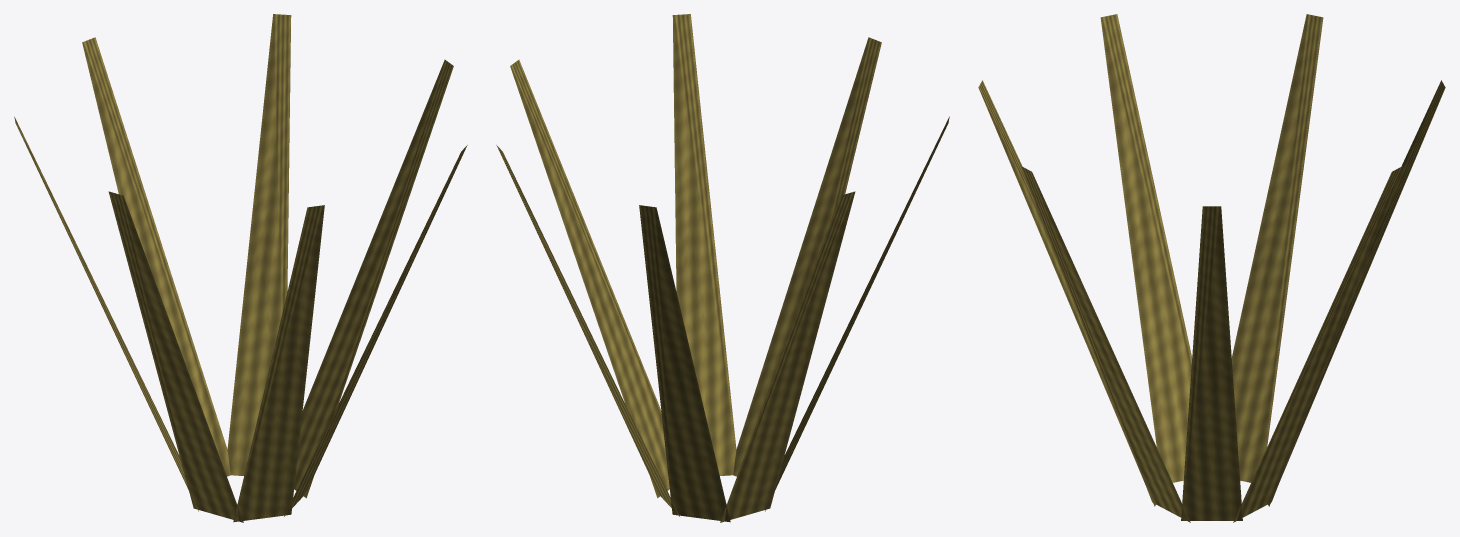
File: SM_GrassTuft.fbx
The picture shows the model from 3 angles, left to right: view 1: azimuth 30°, elevation 25°; view 2: azimuth 150°, elevation 25°; view 3: azimuth 270°, elevation 25°; orthographic projection.
Parts seen in each view (by area): view 1: SM_GrassTuft; view 2: SM_GrassTuft; view 3: SM_GrassTuft.
Boxes of the visible parts, x1=… form: SM_GrassTuft: x1=14, y1=14, x2=467, y2=522; SM_GrassTuft: x1=496, y1=14, x2=949, y2=522; SM_GrassTuft: x1=978, y1=14, x2=1445, y2=522.
Size of the model in its own units: 44.11 by 42 by 45.25.
